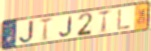2: (77, 12, 94, 37)
J: (18, 19, 36, 44), (58, 15, 73, 37)
L: (117, 8, 132, 31)
T: (38, 16, 54, 42), (97, 9, 112, 34)
